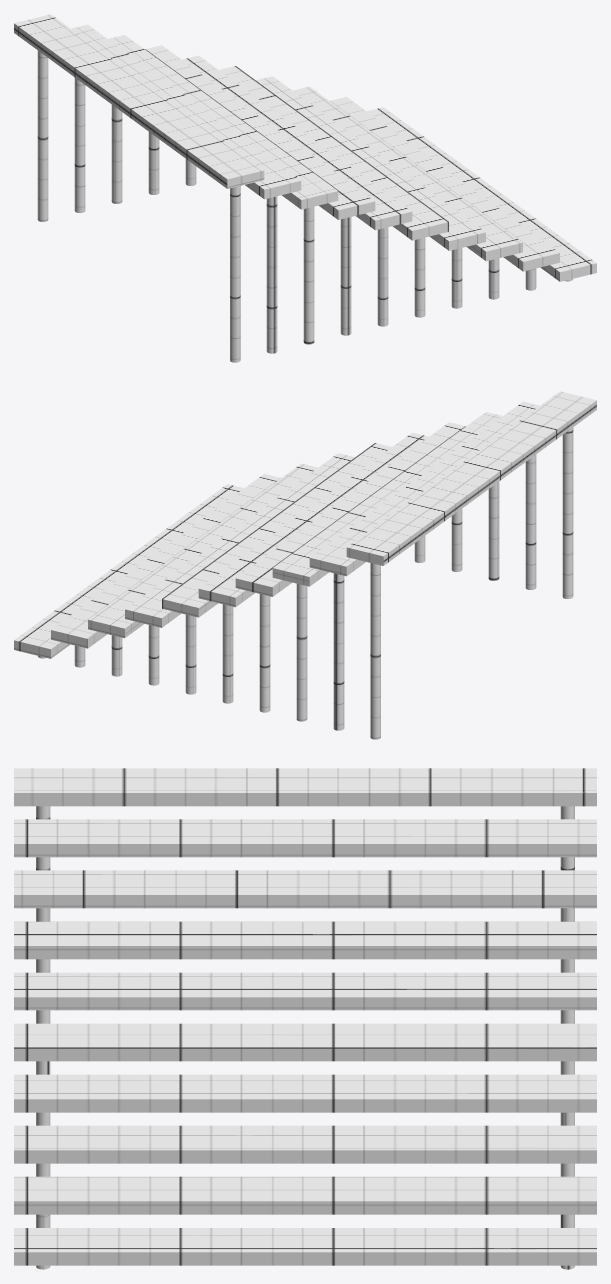
The model's file is Tile_Stairs_4x4x2.fbx.
3 views of the same model, one above another, from view 1: azimuth 30°, elevation 25°; view 2: azimuth 150°, elevation 25°; view 3: azimuth 270°, elevation 25° (orthographic). The views are drawn at different scales.
Visible parts, largest first — view 1: Tile_Stairs_4x4x2; view 2: Tile_Stairs_4x4x2; view 3: Tile_Stairs_4x4x2.
Part boxes in pixels (x1,y1,x2,y2): Tile_Stairs_4x4x2: (14, 14, 596, 362); Tile_Stairs_4x4x2: (14, 391, 596, 739); Tile_Stairs_4x4x2: (14, 768, 596, 1269).
Size of the model in its own units: 400 by 200 by 400.
